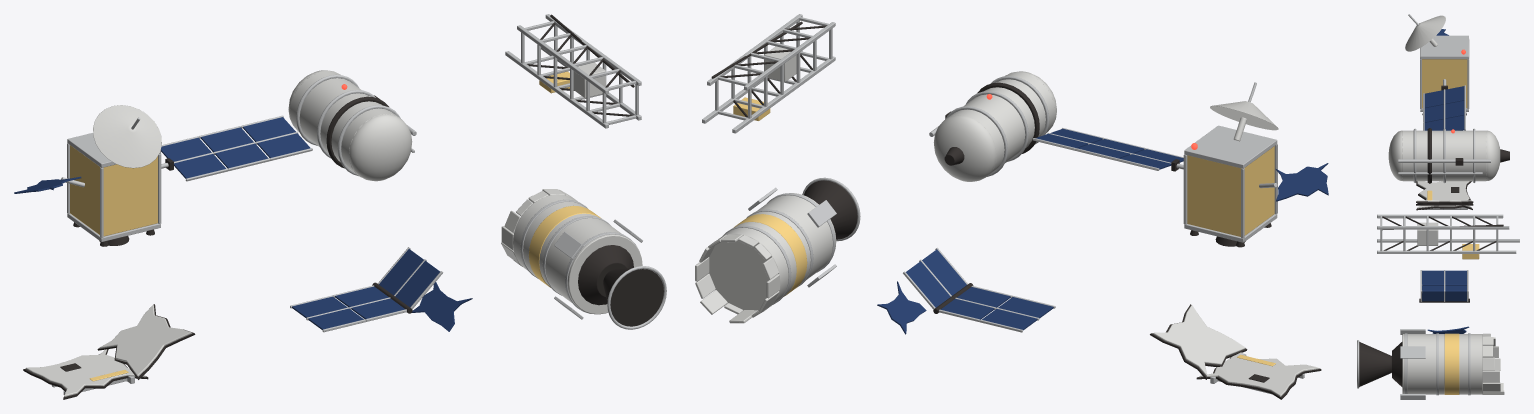
Rendered from space_debris_set.glb.
3 renders of one model, left to right at view 1: azimuth 30°, elevation 25°; view 2: azimuth 150°, elevation 25°; view 3: azimuth 270°, elevation 25°, orthographic. The views are drawn at different scales.
Parts seen in each view (by area): view 1: SpaceDebris.FuelTank.PaintWhite, SpaceDebris.RocketStage.PaintWhite, SpaceDebris.SolarFragment.SolarCell, SpaceDebris.Satellite.Foil, SpaceDebris.Satellite.SolarCell, SpaceDebris.HullPlate.PaintWhite, SpaceDebris.RocketStage.Burnt, SpaceDebris.Truss.Aluminium, SpaceDebris.Satellite.PaintWhite, SpaceDebris.Satellite.Aluminium, SpaceDebris.RocketStage.Aluminium, SpaceDebris.FuelTank.Aluminium (+6 smaller); view 2: SpaceDebris.RocketStage.PaintWhite, SpaceDebris.FuelTank.PaintWhite, SpaceDebris.Satellite.Foil, SpaceDebris.SolarFragment.SolarCell, SpaceDebris.Satellite.Aluminium, SpaceDebris.HullPlate.PaintWhite, SpaceDebris.Truss.Aluminium, SpaceDebris.Satellite.SolarCell, SpaceDebris.RocketStage.Aluminium, SpaceDebris.RocketStage.Burnt, SpaceDebris.FuelTank.Aluminium, SpaceDebris.RocketStage.Foil (+6 smaller); view 3: SpaceDebris.FuelTank.PaintWhite, SpaceDebris.RocketStage.PaintWhite, SpaceDebris.Truss.Aluminium, SpaceDebris.Satellite.Aluminium, SpaceDebris.Satellite.SolarCell, SpaceDebris.SolarFragment.SolarCell, SpaceDebris.Satellite.Foil, SpaceDebris.RocketStage.Burnt, SpaceDebris.RocketStage.Aluminium, SpaceDebris.FuelTank.Aluminium, SpaceDebris.HullPlate.PaintWhite, SpaceDebris.RocketStage.Foil (+7 smaller).
Boxes of the visible parts, x1,y1,x2,y2 form: SpaceDebris.FuelTank.PaintWhite: (288,70,412,181); SpaceDebris.RocketStage.PaintWhite: (501,189,642,314); SpaceDebris.SolarFragment.SolarCell: (292,249,472,331); SpaceDebris.Satellite.Foil: (70,145,157,236); SpaceDebris.Satellite.SolarCell: (14,117,310,193); SpaceDebris.HullPlate.PaintWhite: (25,305,191,396); SpaceDebris.RocketStage.Burnt: (578,245,663,326); SpaceDebris.Truss.Aluminium: (505,14,641,128); SpaceDebris.Satellite.PaintWhite: (93,105,161,168); SpaceDebris.Satellite.Aluminium: (61,115,312,241); SpaceDebris.RocketStage.Aluminium: (520,199,666,329); SpaceDebris.FuelTank.Aluminium: (296,74,416,176); SpaceDebris.RocketStage.PaintWhite: (695,193,836,323); SpaceDebris.FuelTank.PaintWhite: (933,71,1056,181); SpaceDebris.Satellite.Foil: (1187,146,1274,236); SpaceDebris.SolarFragment.SolarCell: (877,249,1053,334); SpaceDebris.Satellite.Aluminium: (1033,82,1277,242); SpaceDebris.HullPlate.PaintWhite: (1153,305,1318,396); SpaceDebris.Truss.Aluminium: (702,14,835,133); SpaceDebris.Satellite.SolarCell: (1036,128,1328,201); SpaceDebris.RocketStage.Aluminium: (723,177,860,304); SpaceDebris.RocketStage.Burnt: (804,180,857,239); SpaceDebris.FuelTank.Aluminium: (929,76,1049,176); SpaceDebris.RocketStage.Foil: (733,214,807,296); SpaceDebris.FuelTank.PaintWhite: (1388,130,1500,181); SpaceDebris.RocketStage.PaintWhite: (1402,333,1504,394); SpaceDebris.Truss.Aluminium: (1377,214,1519,253); SpaceDebris.Satellite.Aluminium: (1408,14,1469,130); SpaceDebris.Satellite.SolarCell: (1424,29,1464,130); SpaceDebris.SolarFragment.SolarCell: (1422,270,1469,333); SpaceDebris.Satellite.Foil: (1422,59,1467,108); SpaceDebris.RocketStage.Burnt: (1359,342,1402,386); SpaceDebris.RocketStage.Aluminium: (1357,329,1470,399); SpaceDebris.FuelTank.Aluminium: (1398,128,1490,183); SpaceDebris.HullPlate.PaintWhite: (1417,181,1471,208); SpaceDebris.RocketStage.Foil: (1444,333,1459,394).
Size of the model in its own units: 11.66 by 5.7 by 3.86.
